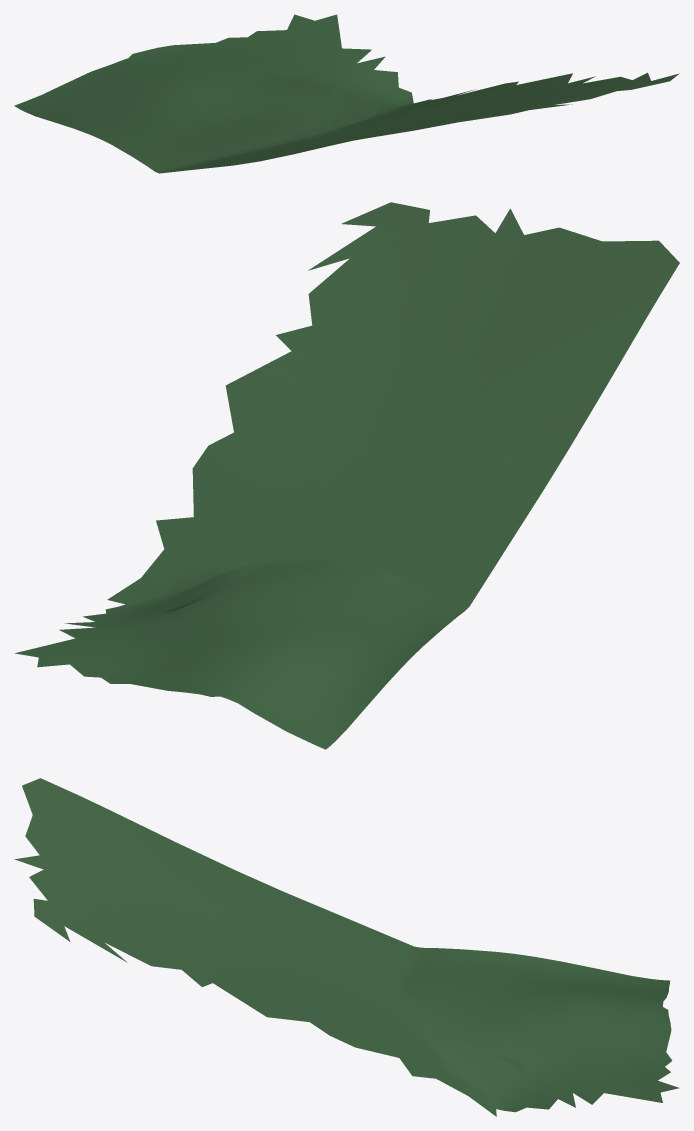
The model's file is payo_land_x4_y9.glb.
3 renders of one model, top to bottom at view 1: azimuth 30°, elevation 25°; view 2: azimuth 150°, elevation 25°; view 3: azimuth 270°, elevation 25°, orthographic. The views are drawn at different scales.
Visible parts, largest first — view 1: payo_land_x4_y9; view 2: payo_land_x4_y9; view 3: payo_land_x4_y9.
Boxes of the visible parts, x1,y1,x2,y2 form: payo_land_x4_y9: (14,14,679,173); payo_land_x4_y9: (15,202,679,749); payo_land_x4_y9: (14,778,679,1116).
Size of the model in its own units: 135 by 92.46 by 268.
